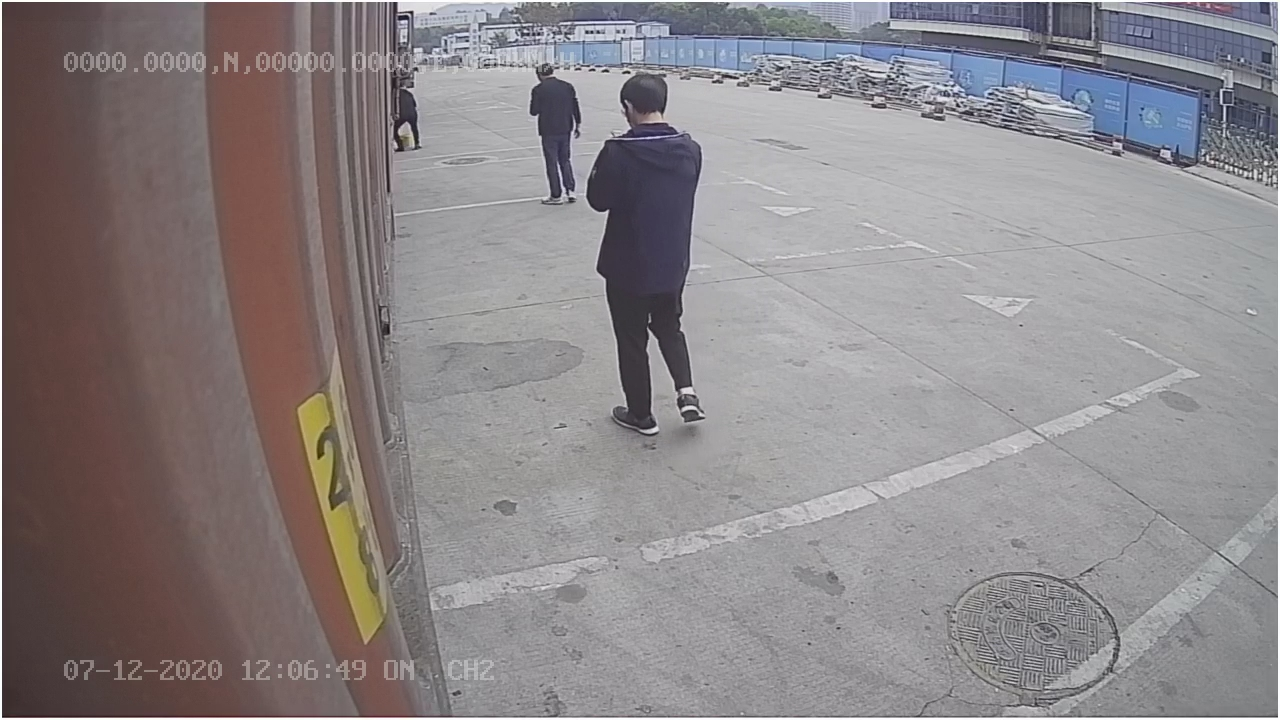person: (587, 67, 709, 440)
